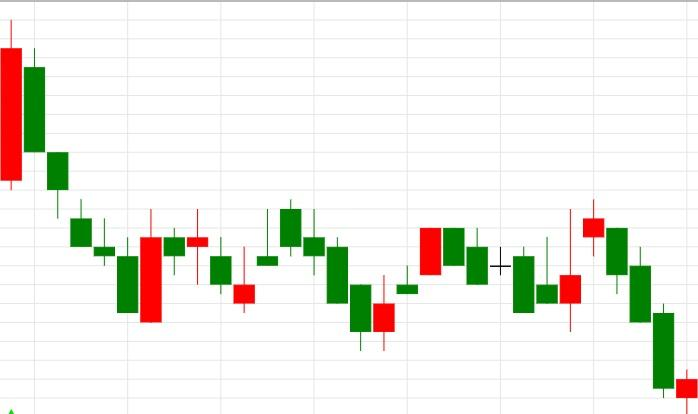bullish_engulfing_rise: (0, 20, 162, 324), (419, 208, 582, 332)
inverse_hammer_rise: (419, 208, 559, 314), (186, 208, 256, 313)
